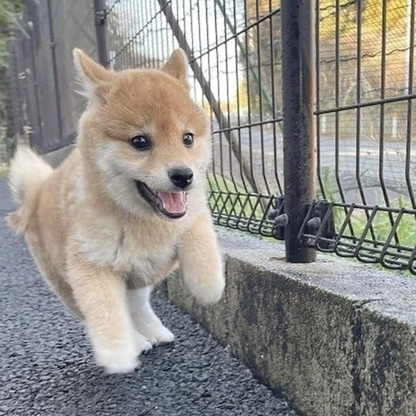shiba: (5, 44, 228, 382)
